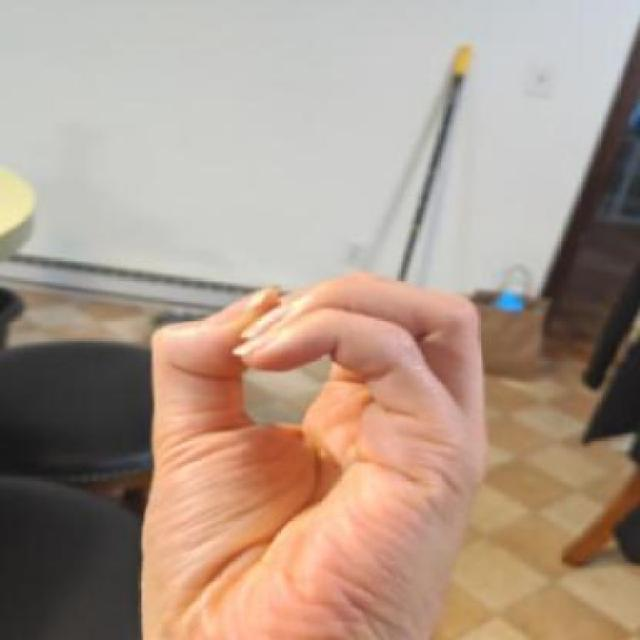O: (99, 256, 510, 638)
